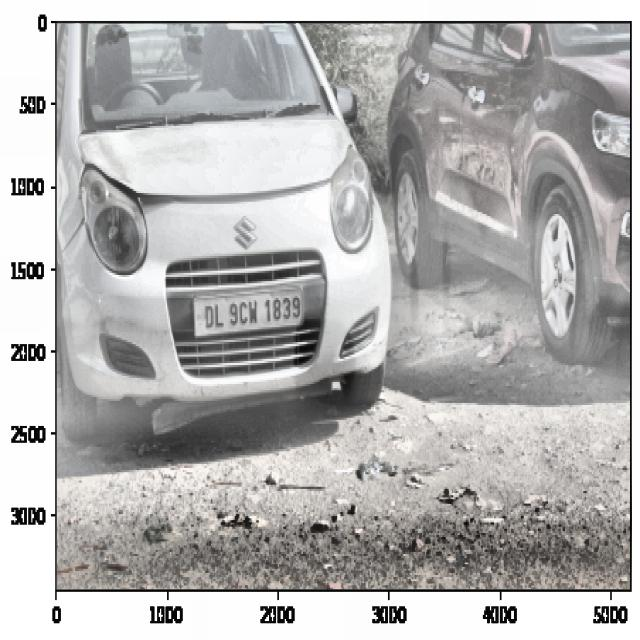license_plate: (199, 288, 304, 332)
